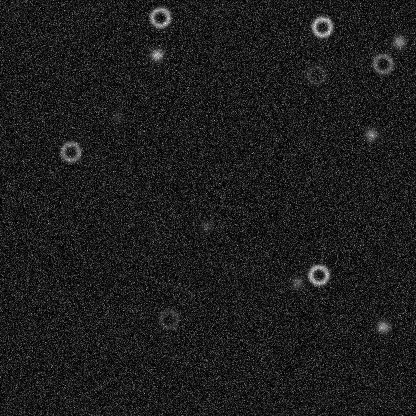Ring: (58, 139, 82, 163), (370, 51, 394, 75), (156, 307, 180, 331), (148, 5, 172, 29), (303, 62, 327, 86), (310, 14, 334, 38), (306, 262, 330, 286)
Spot: (363, 126, 379, 142), (110, 108, 126, 124), (375, 318, 391, 334), (289, 274, 305, 290), (148, 46, 164, 62), (390, 33, 406, 49), (198, 218, 214, 234)
